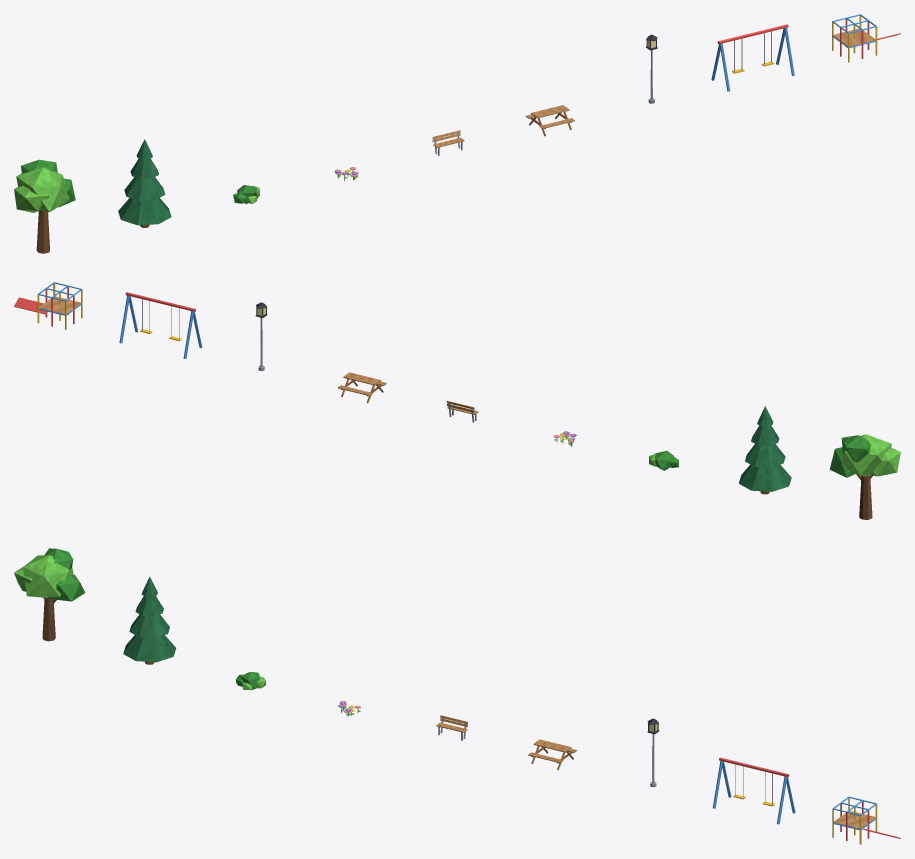
File: ParkProps.fbx
3 views of the same model, one above another, from view 1: azimuth 30°, elevation 25°; view 2: azimuth 150°, elevation 25°; view 3: azimuth 330°, elevation 25° (orthographic).
Parts seen in each view (by area): view 1: OakTree, FirTree, JungleGym, SwingSet, PicnicTable; view 2: OakTree, FirTree, JungleGym, SwingSet, PicnicTable; view 3: OakTree, FirTree, JungleGym, SwingSet.
Boxes of the visible parts, <box> form: OakTree: <box>14,159,75,253</box>; FirTree: <box>118,139,171,227</box>; JungleGym: <box>832,14,900,62</box>; SwingSet: <box>711,24,794,91</box>; PicnicTable: <box>525,105,574,136</box>; OakTree: <box>829,434,900,519</box>; FirTree: <box>739,406,791,494</box>; JungleGym: <box>14,282,82,329</box>; SwingSet: <box>119,292,202,358</box>; PicnicTable: <box>338,372,386,403</box>; OakTree: <box>14,548,85,641</box>; FirTree: <box>123,576,176,664</box>; JungleGym: <box>832,796,900,844</box>; SwingSet: <box>712,757,795,824</box>.
Size of the model in its own units: 19181 by 1868 by 1059.
1 material, 1 textured.
